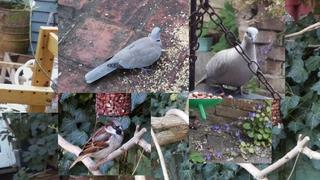collared dove: (85, 27, 162, 84), (195, 27, 258, 96)
sparrow: (68, 120, 124, 170)
